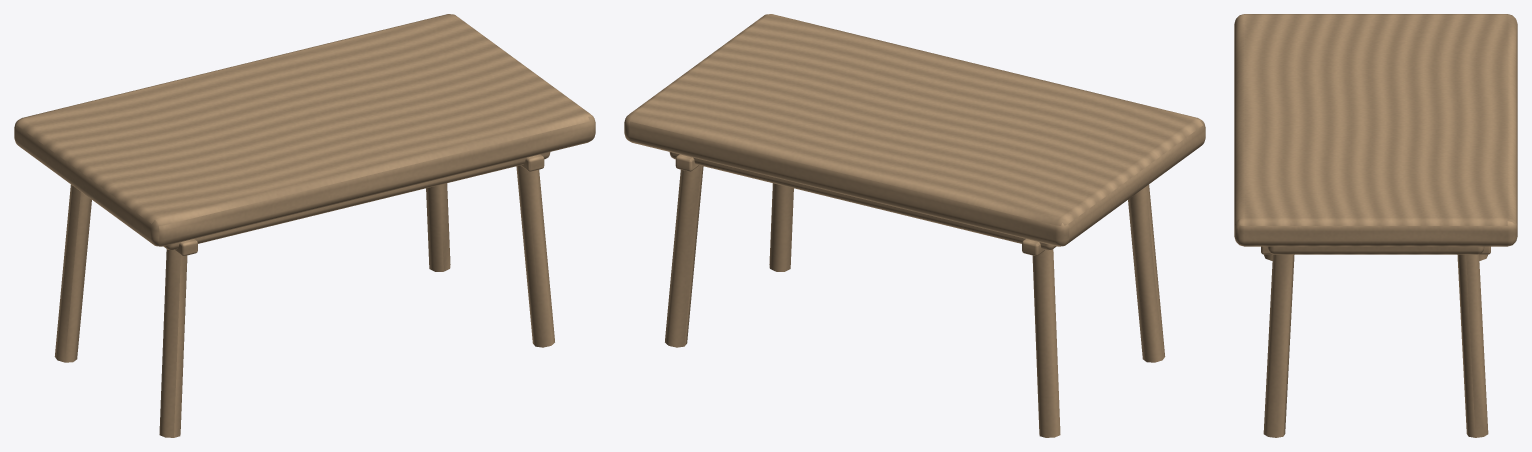
Rendered from table.glb.
3 renders of one model, left to right at view 1: azimuth 30°, elevation 25°; view 2: azimuth 150°, elevation 25°; view 3: azimuth 270°, elevation 25°, orthographic. The views are drawn at different scales.
Parts seen in each view (by area): view 1: 家具_table; view 2: 家具_table; view 3: 家具_table.
Boxes of the visible parts, x1,y1,x2,y2 form: 家具_table: [14, 14, 595, 437]; 家具_table: [624, 14, 1205, 437]; 家具_table: [1234, 14, 1517, 437].
Size of the model in its own units: 1.5 by 0.76 by 0.85.
1 material, 1 textured.
